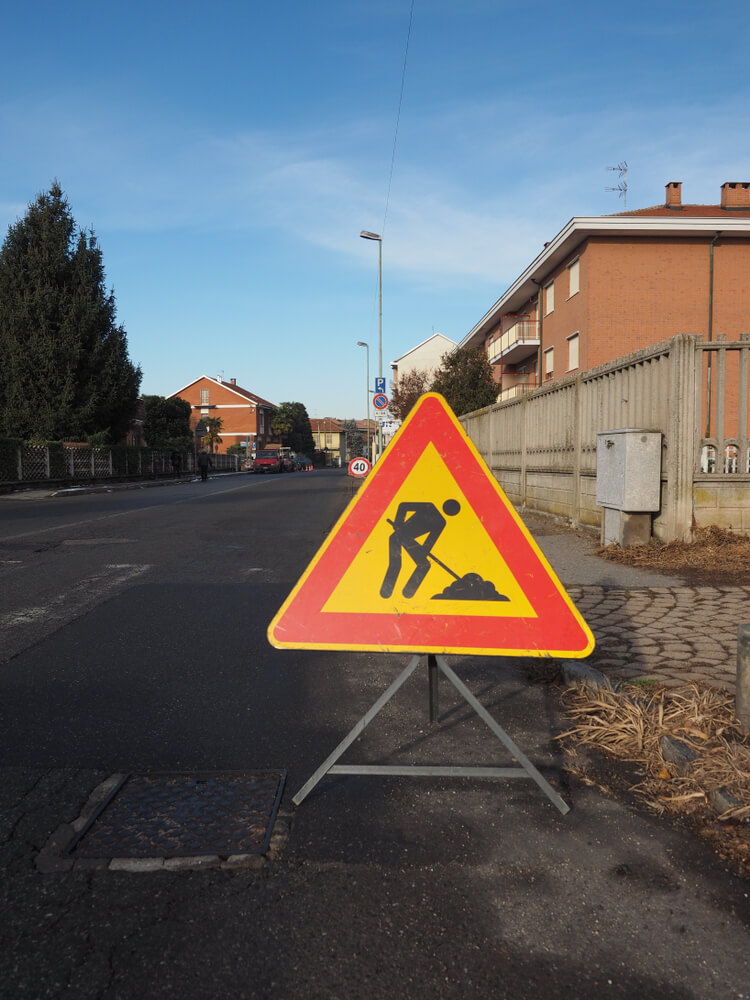car: (254, 441, 282, 475)
caution: (267, 390, 599, 660)
